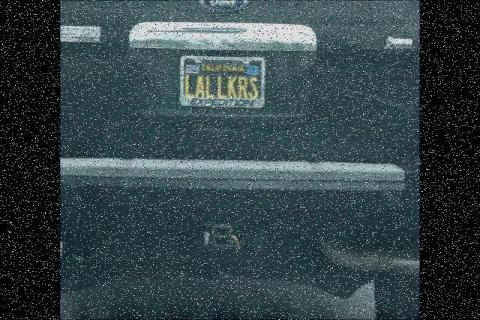LicensePlate: (176, 49, 274, 117)
